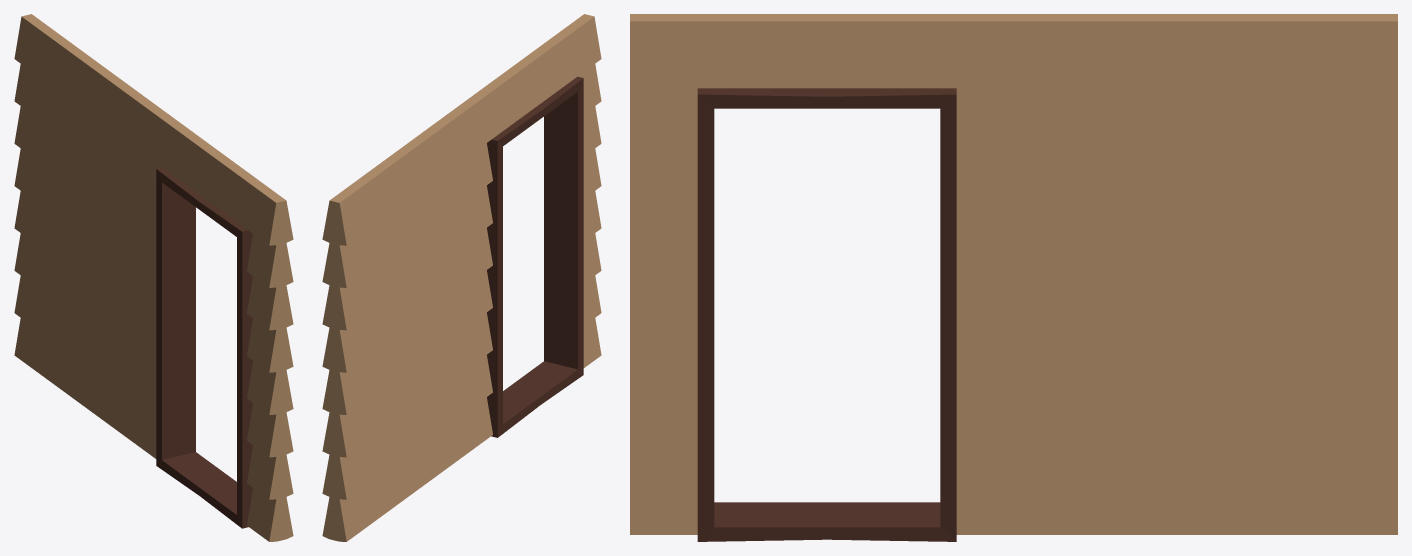
Rendered from Wall Door B-col.glb.
The picture shows the model from 3 angles, left to right: view 1: azimuth 30°, elevation 25°; view 2: azimuth 150°, elevation 25°; view 3: azimuth 270°, elevation 25°; orthographic projection. The views are drawn at different scales.
Parts seen in each view (by area): view 1: Wall Door B-col.001; view 2: Wall Door B-col.001; view 3: Wall Door B-col.001.
Part boxes in pixels (x1,y1,x2,y2): Wall Door B-col.001: [14, 14, 293, 541]; Wall Door B-col.001: [322, 14, 601, 541]; Wall Door B-col.001: [630, 14, 1397, 541].
Size of the model in its own units: 0.2339 by 2.2 by 3.
